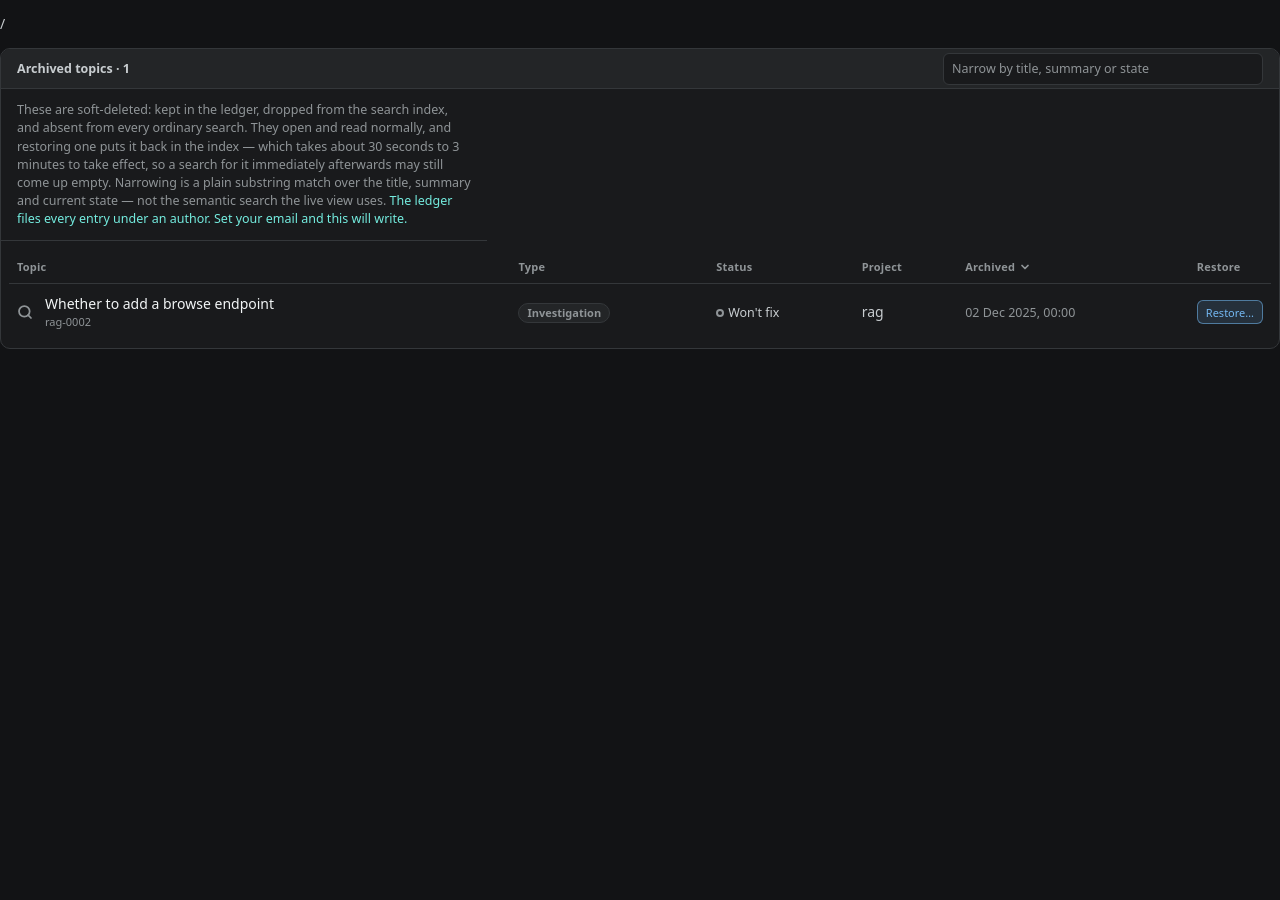
Test: ArchivedView › prompts for an identity instead of restoring when nobody is named
What coordinates should you click on to do the following:
click the button "Restore…"
I would click on:
 (1230, 312)
Its box is [1197,300,1263,324].
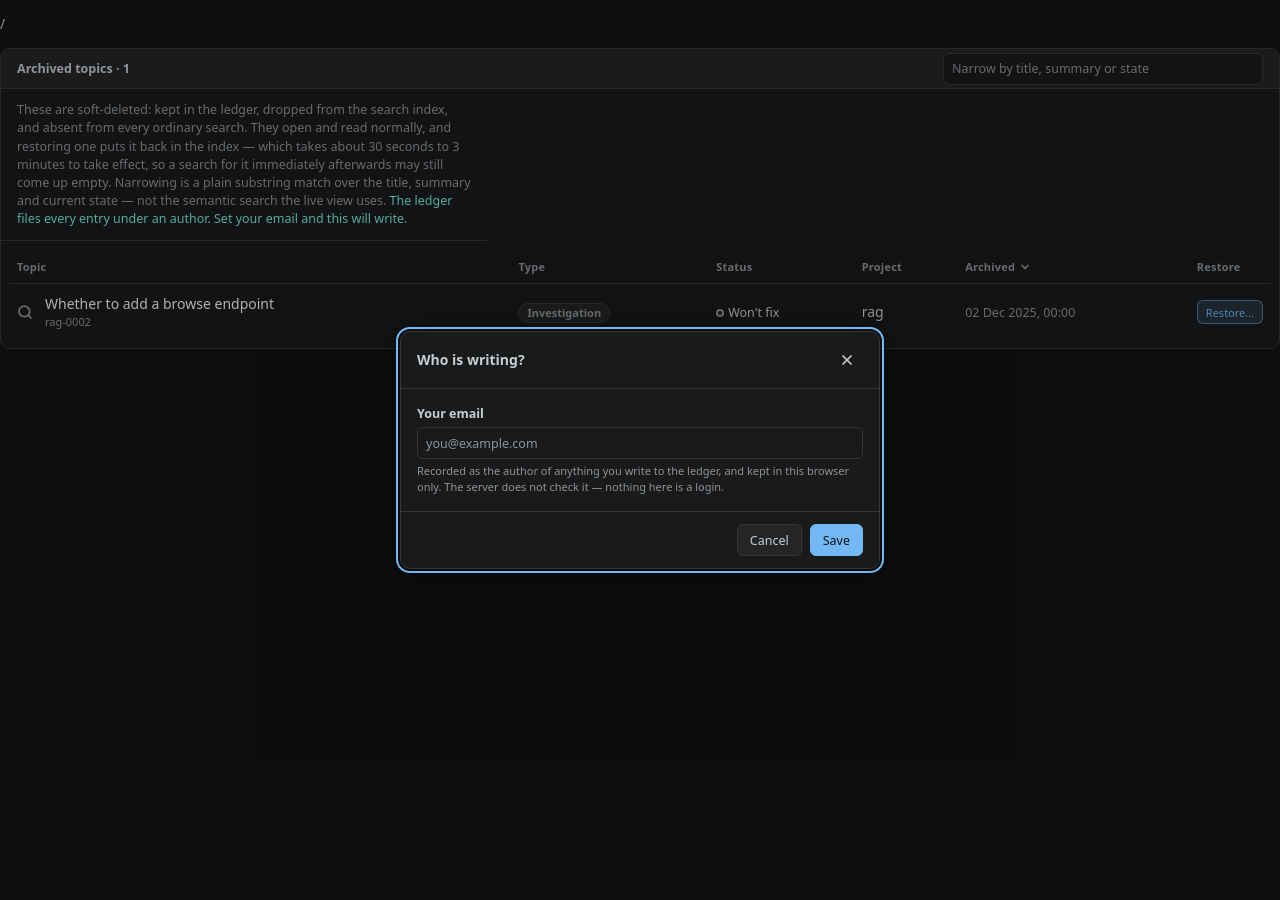
Check: the dialog "Who is writing?" is shown, box [400,331,880,569]
